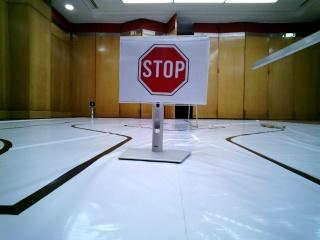stop: (129, 38, 208, 100)
